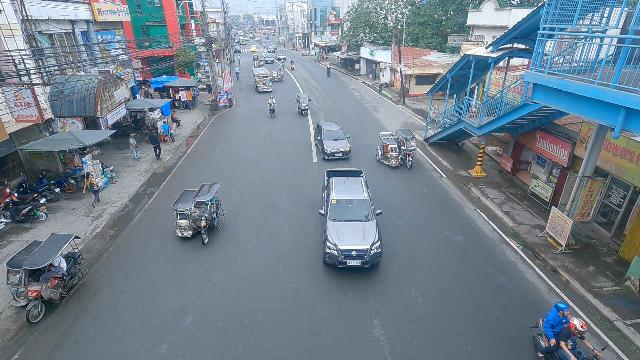car: (313, 121, 352, 161), (264, 55, 275, 64), (275, 52, 286, 61), (267, 45, 277, 53), (250, 45, 258, 52), (234, 46, 241, 53)
jeepney: (252, 67, 272, 93)
motorcycle: (267, 98, 278, 119), (290, 61, 296, 71), (326, 65, 331, 77)
truck: (319, 167, 386, 273)
